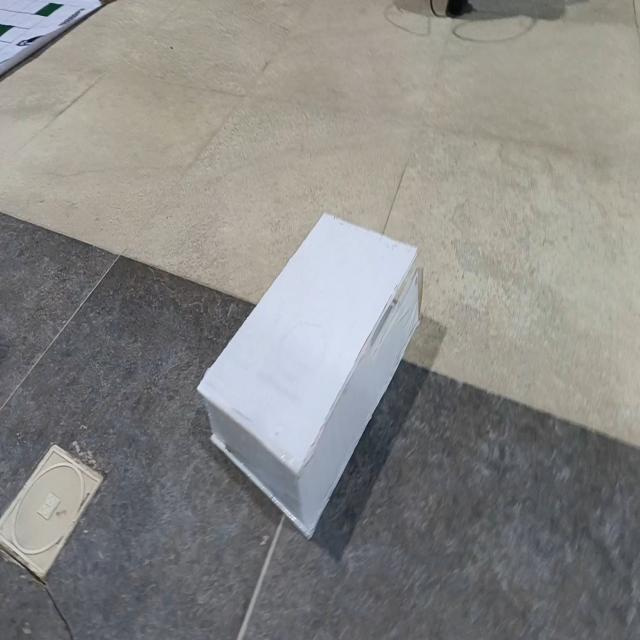Cuboid: (196, 210, 424, 540)
